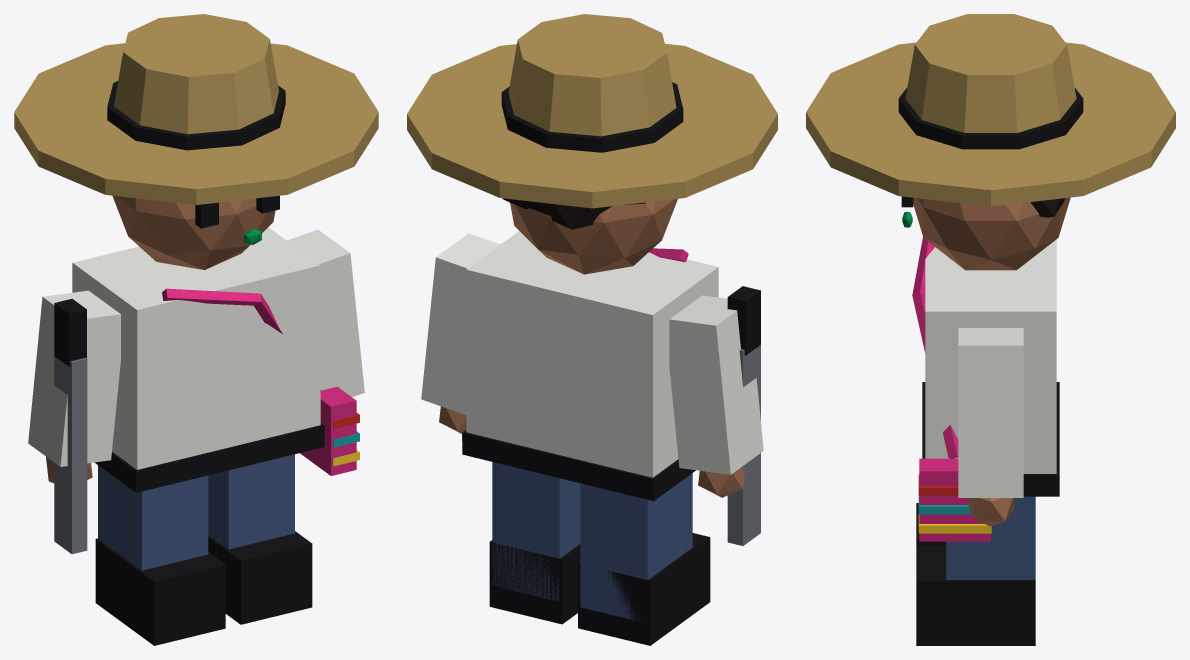
The model's file is Org Cocalero.fbx.
3 views of the same model, side by side, from view 1: azimuth 30°, elevation 25°; view 2: azimuth 150°, elevation 25°; view 3: azimuth 270°, elevation 25° (orthographic).
Visible parts, largest first — view 1: Org Cocalero; view 2: Org Cocalero; view 3: Org Cocalero.
Boxes of the visible parts, x1,y1,x2,y2 form: Org Cocalero: (14, 14, 378, 645); Org Cocalero: (407, 14, 777, 645); Org Cocalero: (806, 14, 1175, 645).
Bounding box in the file's own units: 0.62 × 1.04 × 0.62.
